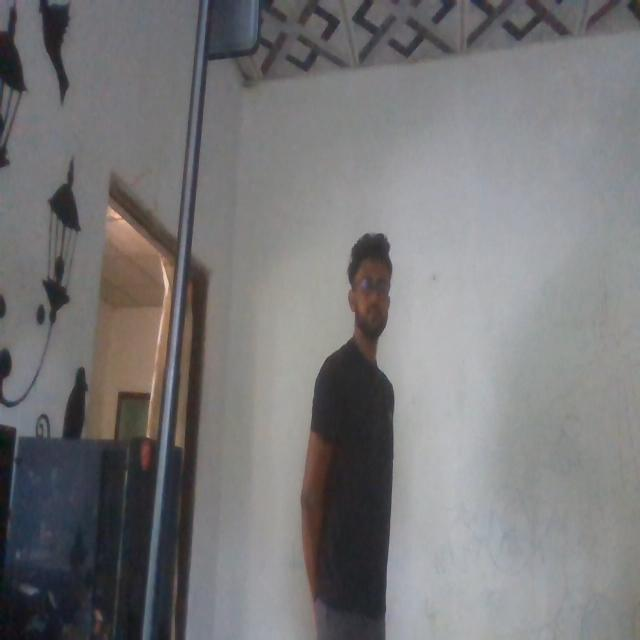Person: (300, 228, 416, 618)
